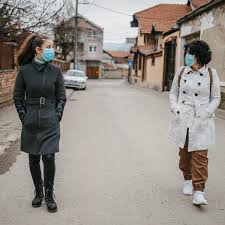with_mask: (36, 41, 55, 61), (183, 48, 198, 68)
